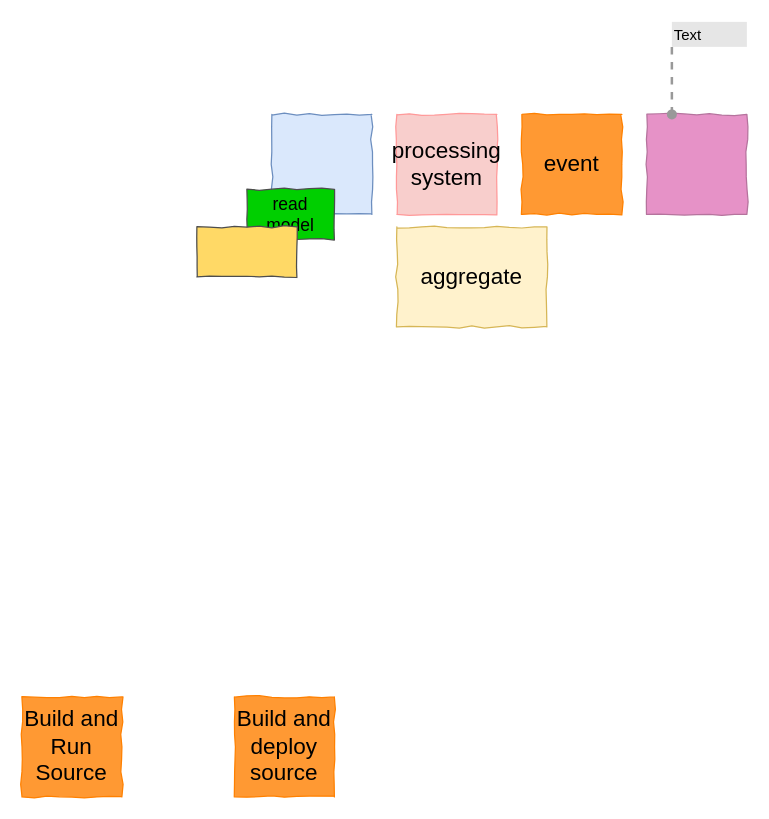
Image size: 769x819. Some labels were removed from this diagram. Here are the shapes that lost their labels. From the top down, the box of each, then its label:
(271, 113, 372, 214): command
(646, 113, 747, 214): policy
(196, 226, 297, 277): external entity / actor
